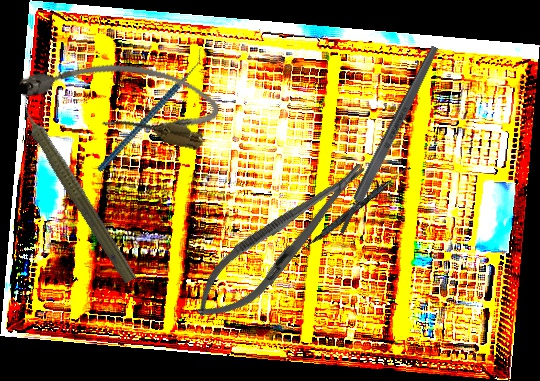Cannula: (12, 38, 225, 154)
Chopper: (70, 47, 231, 173)
Handpiece: (9, 91, 144, 287)
Needle Holder: (181, 146, 382, 336)
Scalpel Handle: (335, 44, 442, 236)
Spatula Surgical: (298, 162, 412, 256)
